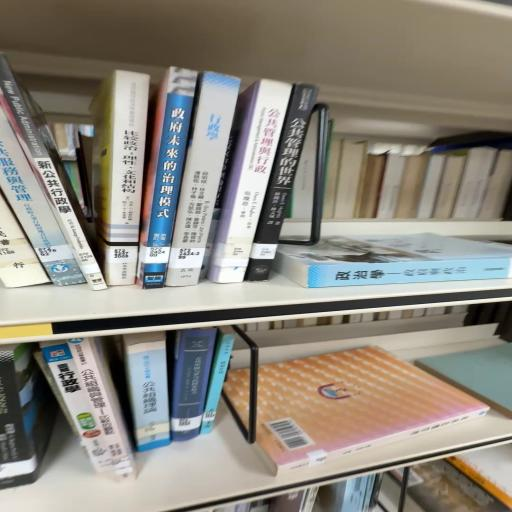flat: (224, 347, 490, 476), (275, 234, 512, 289)
